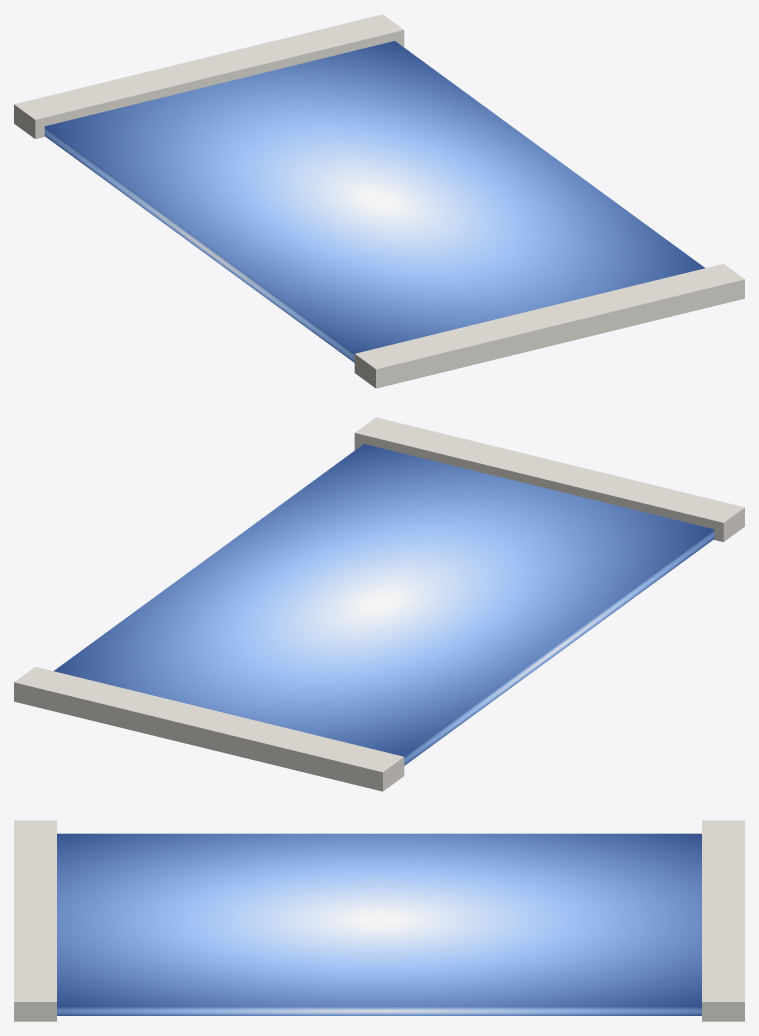
File: gap.glb
3 views of the same model, one above another, from view 1: azimuth 30°, elevation 25°; view 2: azimuth 150°, elevation 25°; view 3: azimuth 270°, elevation 25° (orthographic).
Parts seen in each view (by area): view 1: kingdom gap; view 2: kingdom gap; view 3: kingdom gap.
Boxes of the visible parts, bbox=[...] form: kingdom gap: bbox=[14, 14, 744, 388]; kingdom gap: bbox=[14, 417, 744, 791]; kingdom gap: bbox=[14, 820, 744, 1021].
Bounding box in the file's own units: 2 × 0.1 × 3.4.
Materials: 2 (1 with a texture image).
